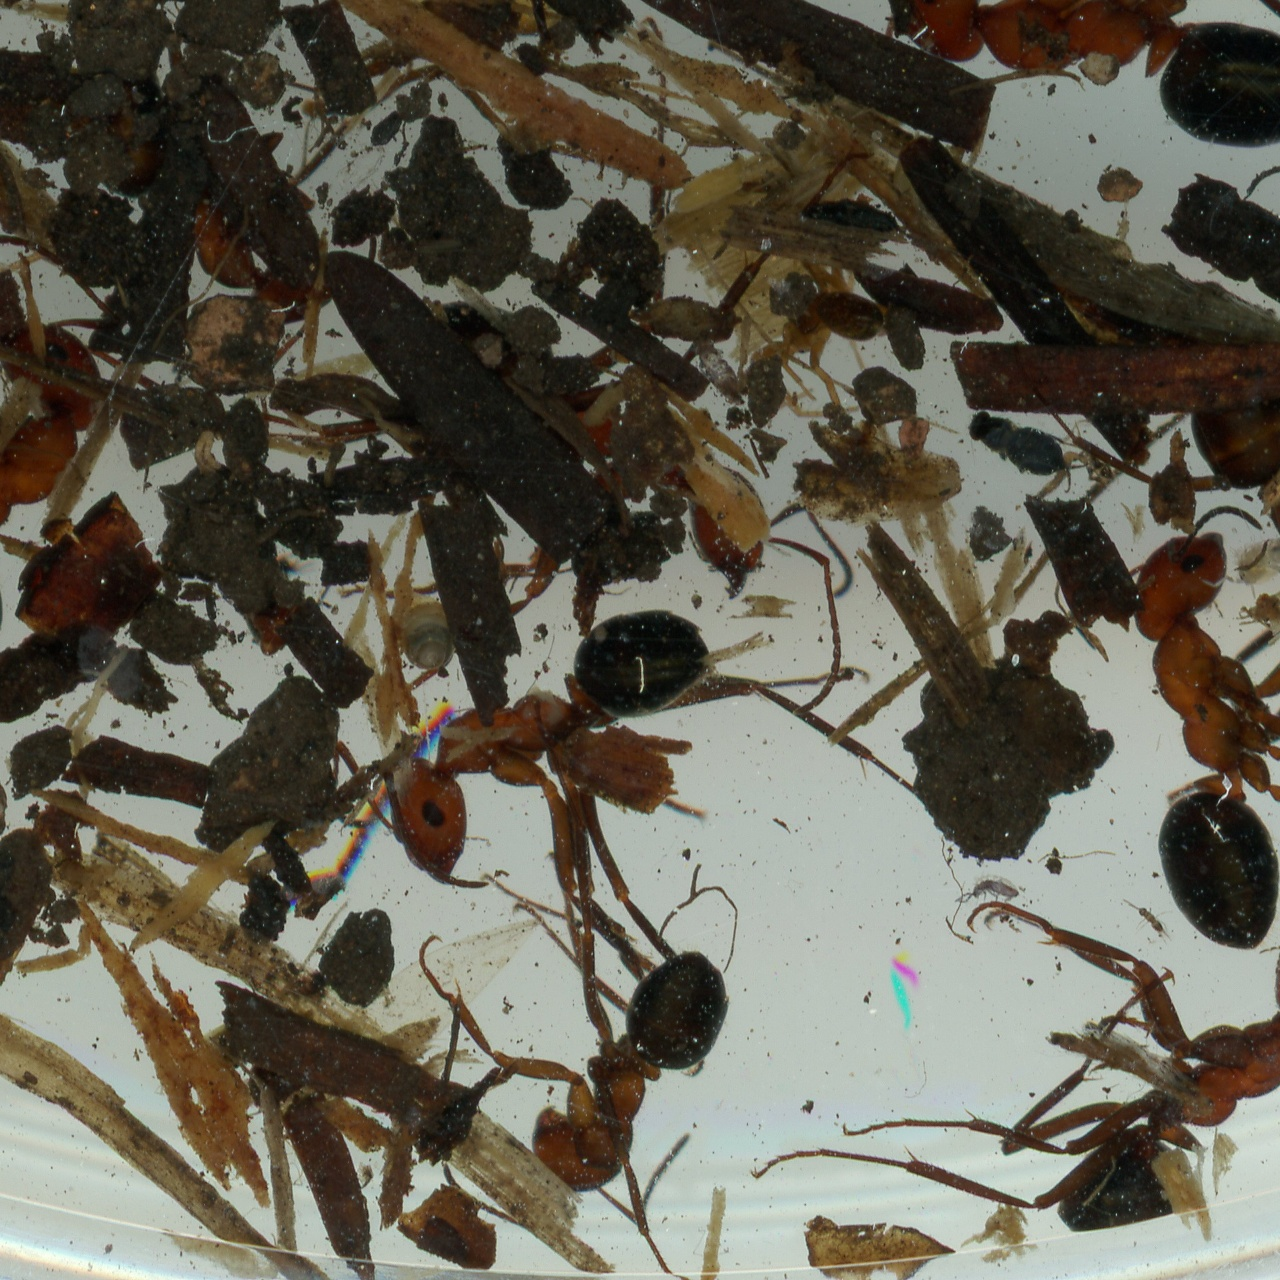arthropod: (690, 799, 1280, 1280), (322, 331, 941, 753), (327, 543, 953, 959), (404, 864, 737, 1279), (1061, 490, 1280, 964), (719, 0, 1280, 158), (0, 259, 149, 714), (1095, 400, 1280, 704), (958, 406, 1091, 496), (1208, 510, 1280, 614), (389, 584, 463, 679), (686, 327, 757, 418), (1108, 874, 1185, 955), (958, 874, 1028, 903)
